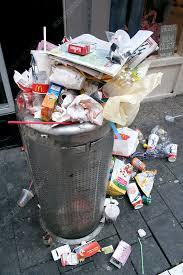trash: (11, 30, 157, 125), (46, 223, 148, 271), (102, 151, 158, 218), (112, 124, 150, 167), (141, 125, 177, 165), (10, 176, 41, 209)
trash_can_overflow: (8, 13, 179, 275)
